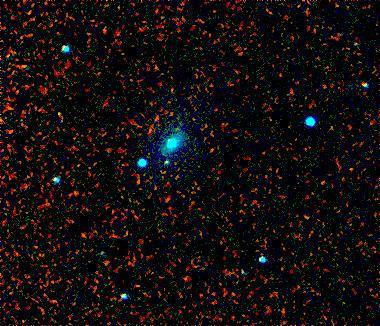star: (288, 204, 318, 234)
